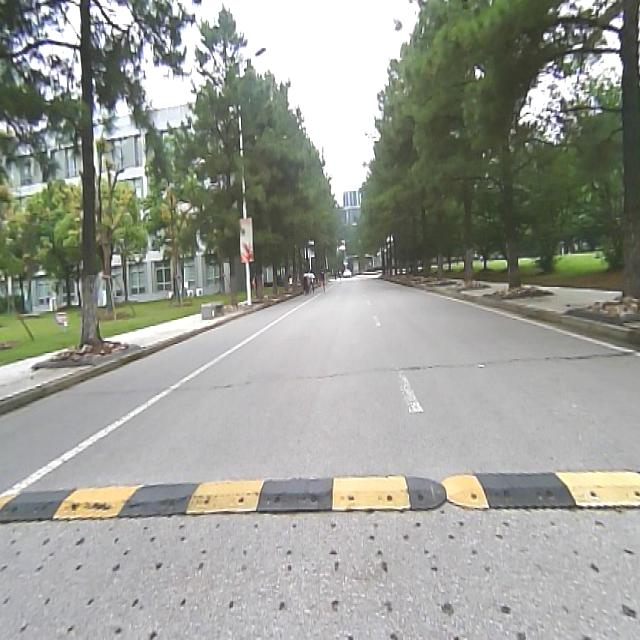Speed Bump: (2, 463, 640, 524)
